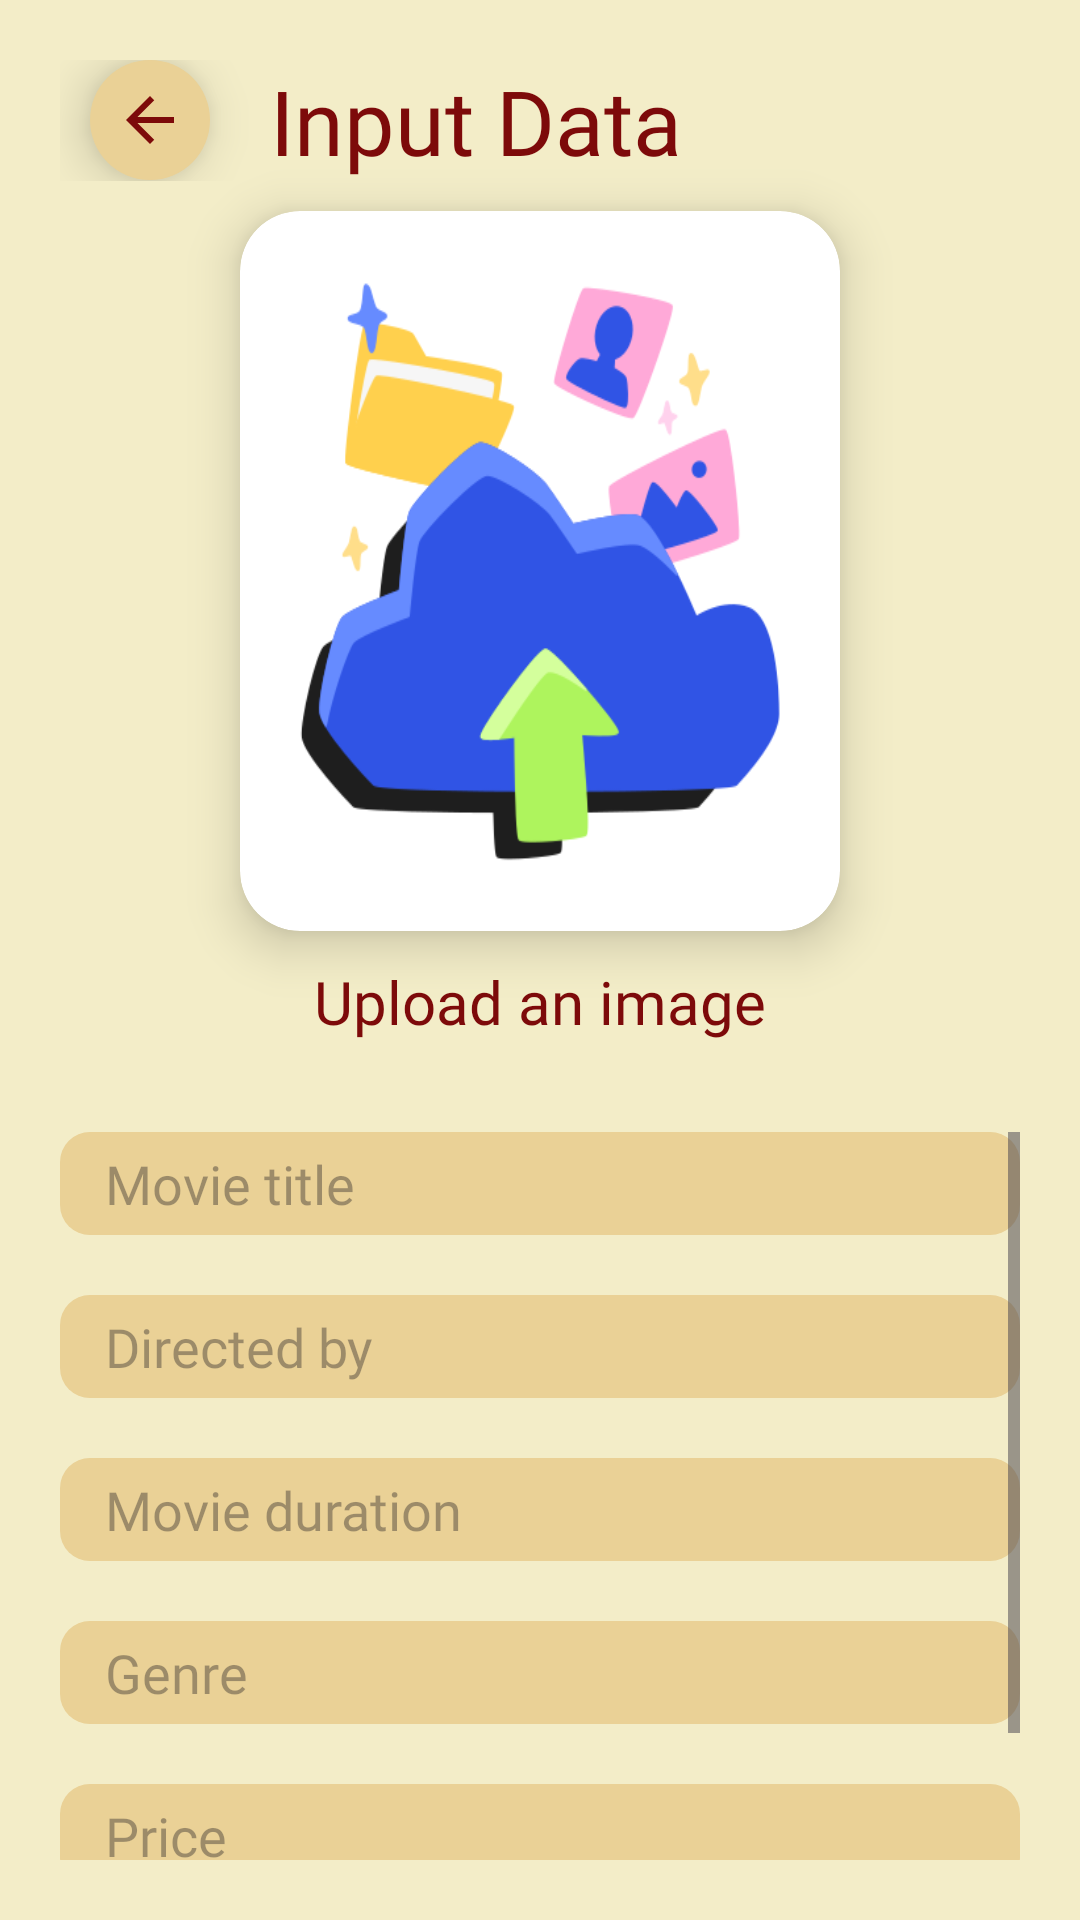

Where to tap for icons on this 1080px x 1920px app screen, as point (x, y):
arrow back: point (150, 120)
